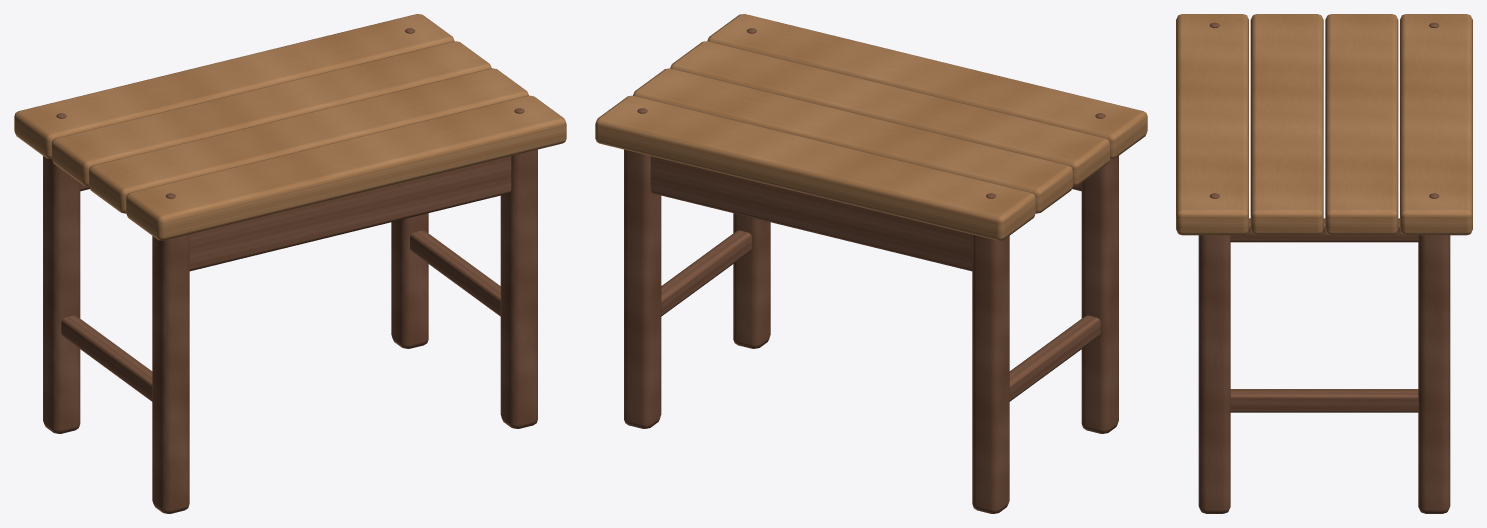
Rendered from 08-schreibtisch.glb.
3 views of the same model, side by side, from view 1: azimuth 30°, elevation 25°; view 2: azimuth 150°, elevation 25°; view 3: azimuth 270°, elevation 25° (orthographic).
Visible parts, largest first — view 1: Rounded tabletop plank 0, Rounded tabletop plank 2, Rounded tabletop plank 1, Rounded tabletop plank 3, Long apron, Tapered-looking leg, Tapered-looking leg.002, Tapered-looking leg.001, Tapered-looking leg.003, Side stretcher, Side stretcher.001; view 2: Rounded tabletop plank 3, Rounded tabletop plank 1, Rounded tabletop plank 2, Rounded tabletop plank 0, Long apron.001, Tapered-looking leg.001, Tapered-looking leg.003, Tapered-looking leg, Tapered-looking leg.002, Side stretcher, Side stretcher.001; view 3: Rounded tabletop plank 1, Rounded tabletop plank 2, Rounded tabletop plank 0, Rounded tabletop plank 3, Tapered-looking leg.002, Tapered-looking leg.003, Side stretcher.001, Side stretcher.
Part boxes in pixels (box(x1,y1,x2,y2)): Rounded tabletop plank 0: box(126, 95, 566, 240); Rounded tabletop plank 2: box(51, 41, 491, 186); Rounded tabletop plank 1: box(88, 68, 528, 213); Rounded tabletop plank 3: box(14, 14, 454, 158); Long apron: box(189, 156, 511, 271); Tapered-looking leg: box(152, 234, 189, 513); Tapered-looking leg.002: box(500, 149, 537, 428); Tapered-looking leg.001: box(43, 156, 80, 433); Tapered-looking leg.003: box(391, 213, 428, 348); Side stretcher: box(61, 315, 152, 401); Side stretcher.001: box(410, 230, 500, 316); Rounded tabletop plank 3: box(595, 95, 1035, 240); Rounded tabletop plank 1: box(670, 41, 1110, 186); Rounded tabletop plank 2: box(633, 68, 1073, 213); Rounded tabletop plank 0: box(707, 14, 1147, 158); Long apron.001: box(650, 156, 972, 271); Tapered-looking leg.001: box(972, 234, 1009, 513); Tapered-looking leg.003: box(624, 149, 661, 428); Tapered-looking leg: box(1081, 156, 1118, 433); Tapered-looking leg.002: box(733, 213, 770, 348); Side stretcher: box(1009, 315, 1100, 401); Side stretcher.001: box(661, 230, 751, 316); Rounded tabletop plank 1: box(1250, 14, 1323, 235); Rounded tabletop plank 2: box(1325, 14, 1398, 235); Rounded tabletop plank 0: box(1176, 14, 1248, 235); Rounded tabletop plank 3: box(1400, 14, 1472, 235); Tapered-looking leg.002: box(1198, 235, 1230, 513); Tapered-looking leg.003: box(1418, 235, 1450, 513); Side stretcher.001: box(1230, 389, 1418, 412); Side stretcher: box(1230, 218, 1418, 242).
Size of the model in its own units: 1.08 by 0.794 by 0.676.
2 materials, 2 textured.
